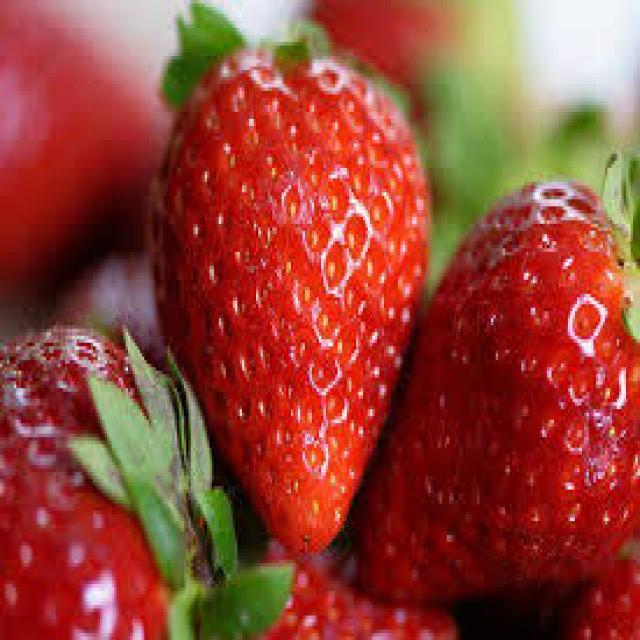Strawberry: (152, 50, 426, 562), (358, 177, 628, 598), (0, 330, 194, 638), (261, 540, 460, 640), (542, 538, 640, 640)
